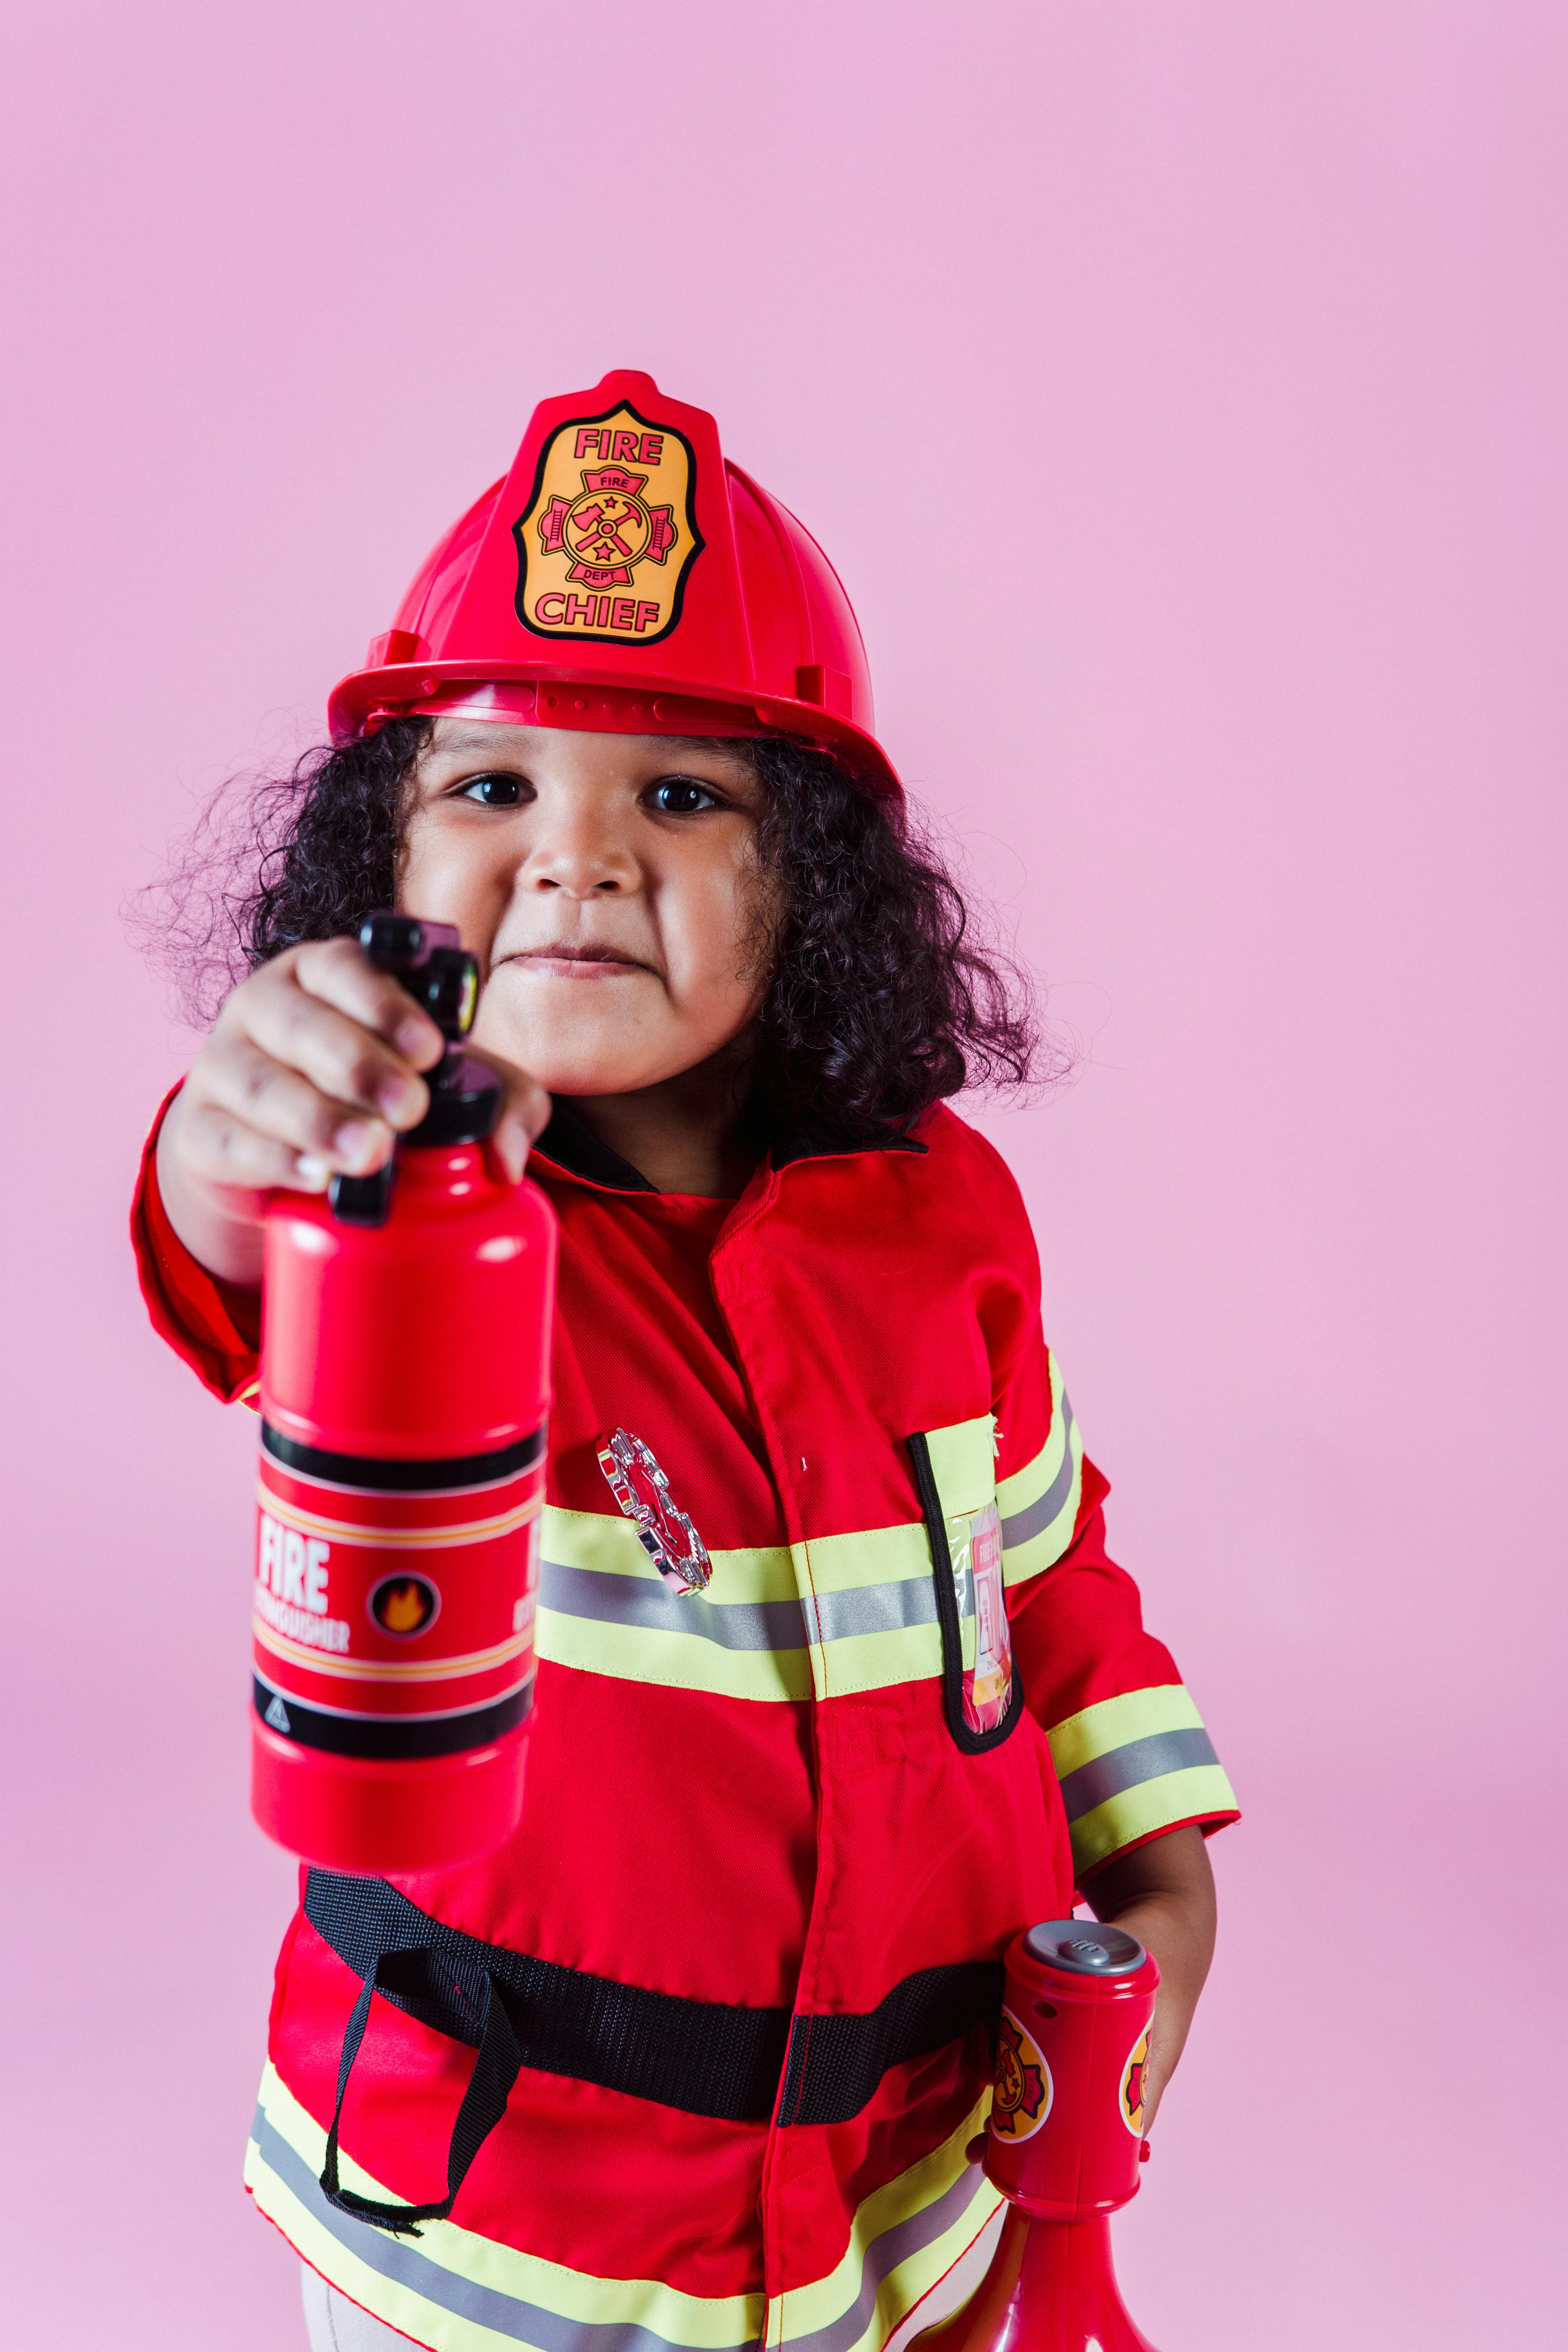extintor: (252, 912, 560, 1874)
